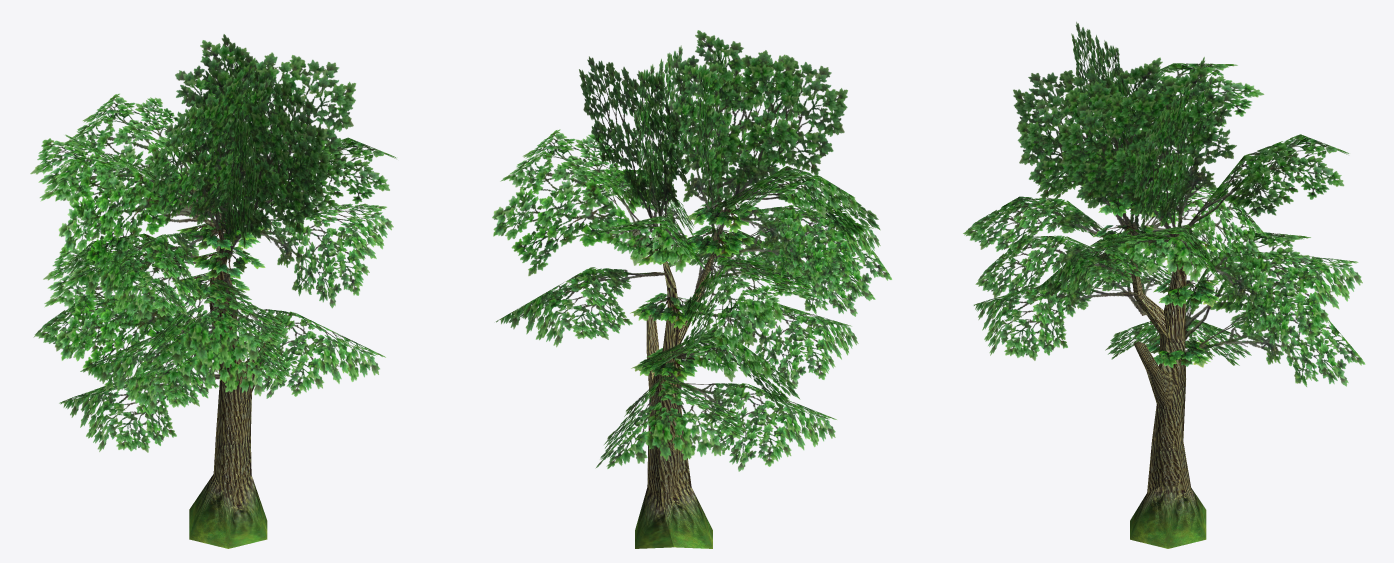
The model's file is tree6_10.glb.
The picture shows the model from 3 angles, left to right: view 1: azimuth 30°, elevation 25°; view 2: azimuth 150°, elevation 25°; view 3: azimuth 270°, elevation 25°; orthographic projection.
Visible parts, largest first — view 1: tree6_10; view 2: tree6_10; view 3: tree6_10.
Boxes of the visible parts, bbox=[...] form: tree6_10: bbox=[30, 34, 396, 548]; tree6_10: bbox=[492, 30, 891, 548]; tree6_10: bbox=[963, 22, 1365, 548].
Size of the model in its own units: 10.99 by 13.11 by 10.48.
Materials: 5 (5 with a texture image).
